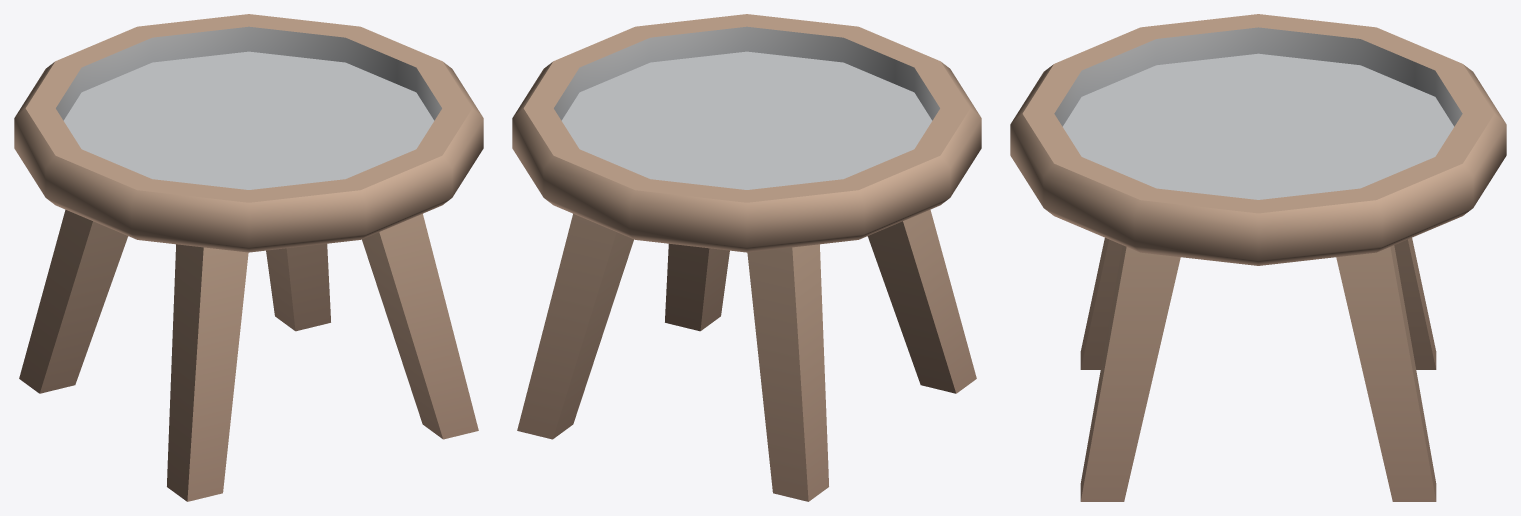
Rendered from table-side-round-large.glb.
3 views of the same model, side by side, from view 1: azimuth 30°, elevation 25°; view 2: azimuth 150°, elevation 25°; view 3: azimuth 270°, elevation 25° (orthographic). The views are drawn at different scales.
Parts seen in each view (by area): view 1: table-side-round-large; view 2: table-side-round-large; view 3: table-side-round-large.
Boxes of the visible parts, left/top/right/bottom form: table-side-round-large: left=14, top=14, right=483, bottom=501; table-side-round-large: left=512, top=14, right=981, bottom=501; table-side-round-large: left=1010, top=14, right=1506, bottom=501.
Bounding box in the file's own units: 0.4279 × 0.298 × 0.4279.
